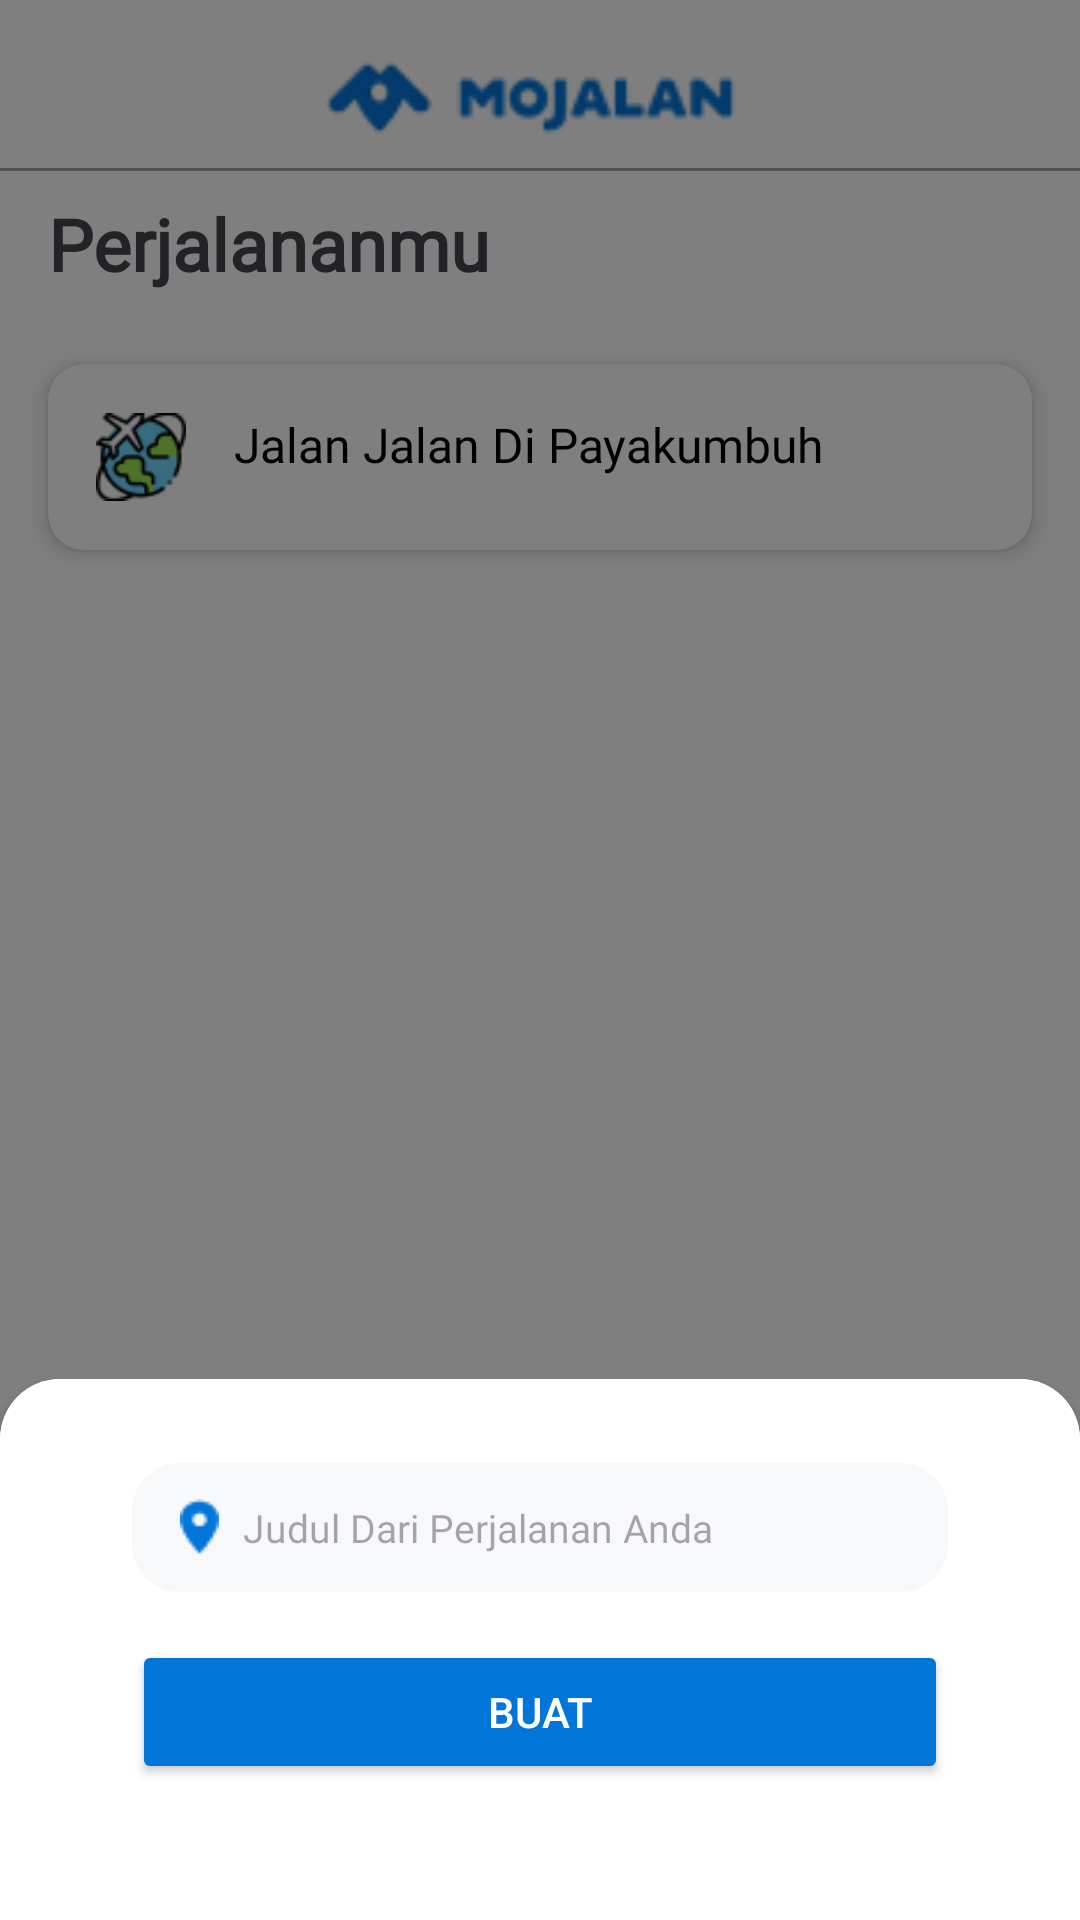

Named icons in this screenshot (1080w x 1920h) and their centers, (x=x, y=y):
Trip Icon: (x=141, y=457)
